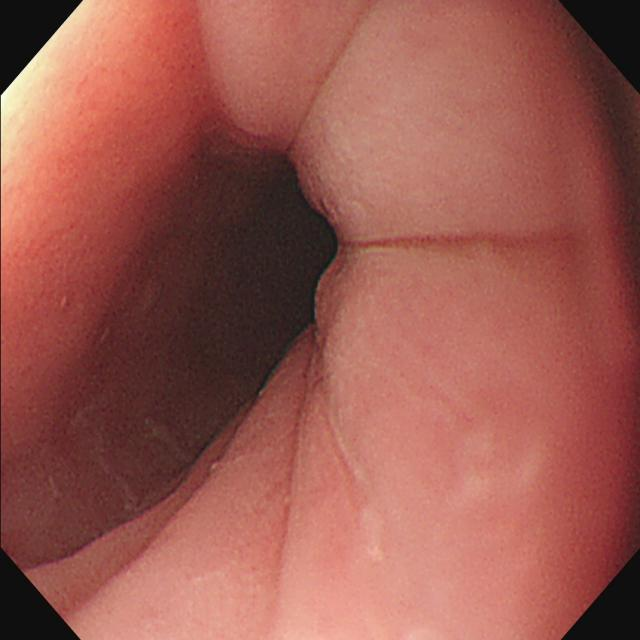E: (116, 113, 359, 398)
